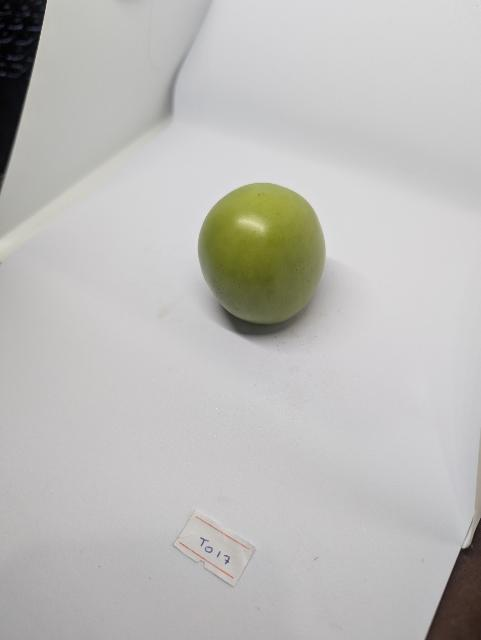green: (196, 182, 331, 327)
